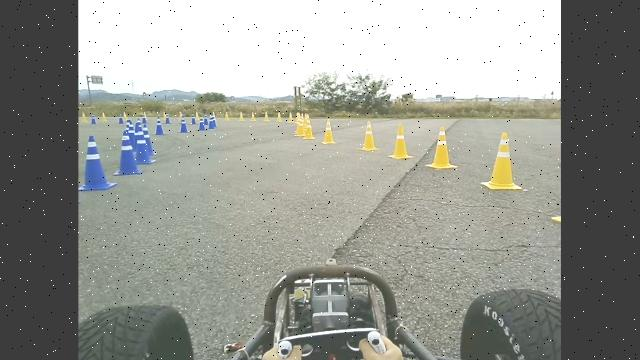blue cone: (78, 134, 117, 190), (112, 128, 146, 176), (154, 117, 166, 135), (177, 117, 190, 133), (208, 114, 217, 129), (197, 119, 206, 131)
yellow cone: (480, 131, 523, 191), (425, 126, 457, 170), (388, 123, 413, 159), (358, 120, 380, 151), (321, 118, 336, 144), (303, 124, 315, 139), (294, 122, 304, 136), (262, 111, 270, 122), (287, 111, 294, 123), (276, 112, 283, 122), (238, 110, 244, 121), (250, 111, 256, 121), (224, 112, 229, 121)
